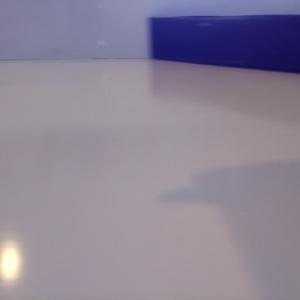zone: (151, 16, 300, 73)
